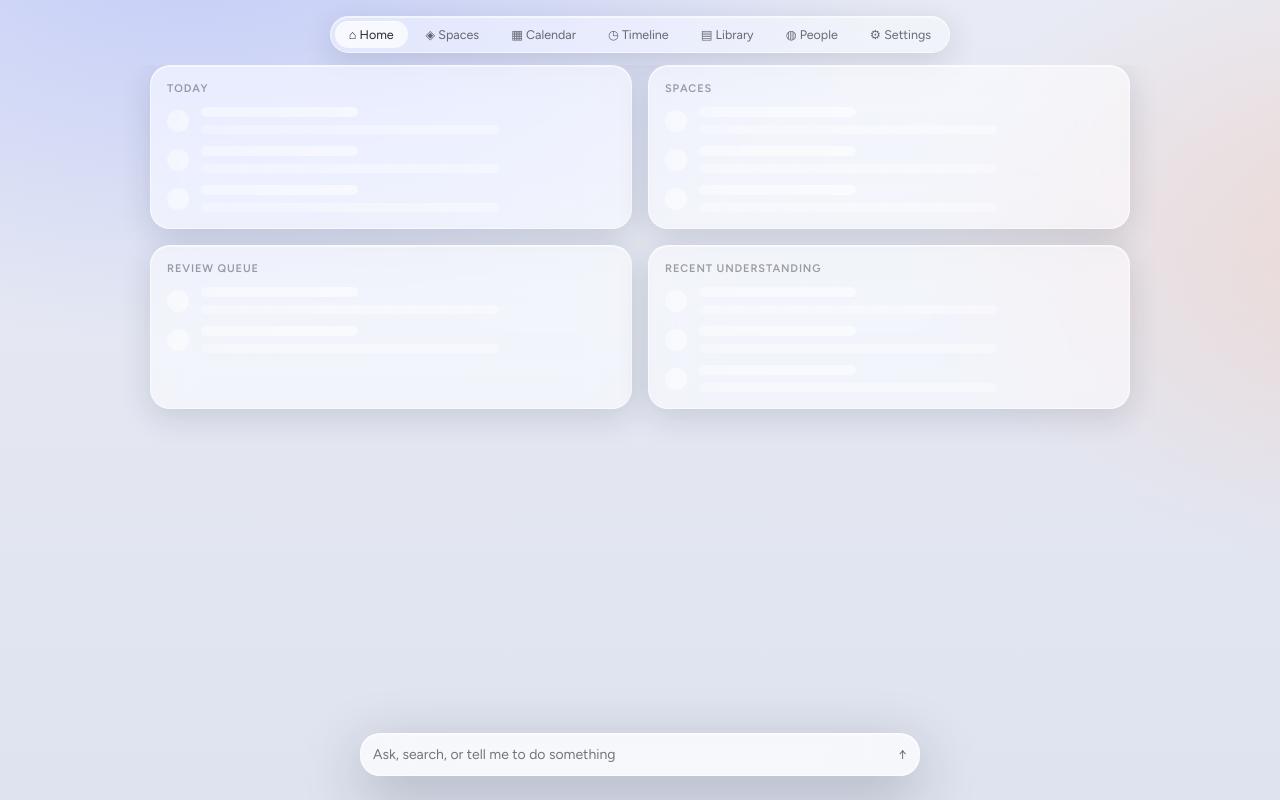
Scenario: a pending main tab never renders an empty verdict (FIX-C5) › People stages the roster instead of printing five circles of zero
This screenshot has width=1280, height=800.
Step 1. Click the button "◍ People" → (812, 34), box [772, 21, 852, 48]
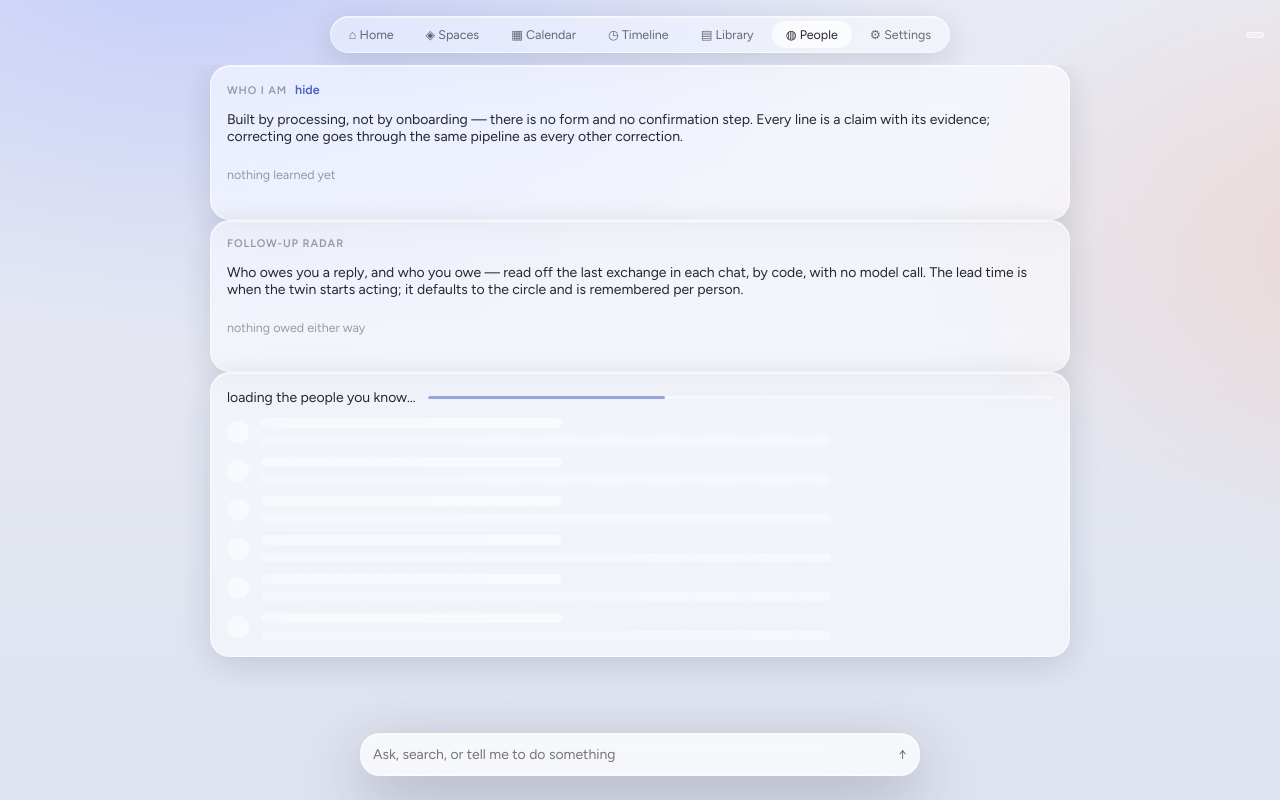
Expected: the message "loading the people you know…" is shown, [210, 372, 1070, 657]
